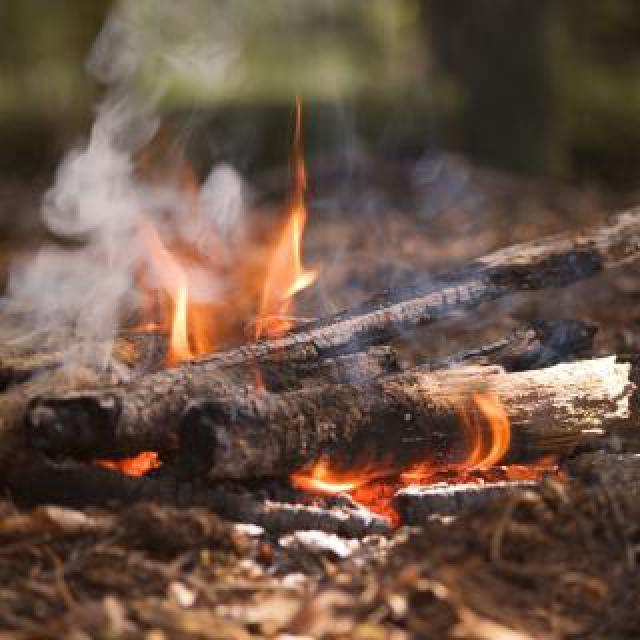Fire: (228, 110, 360, 350), (280, 386, 526, 506)
Smoke: (26, 32, 196, 404)
